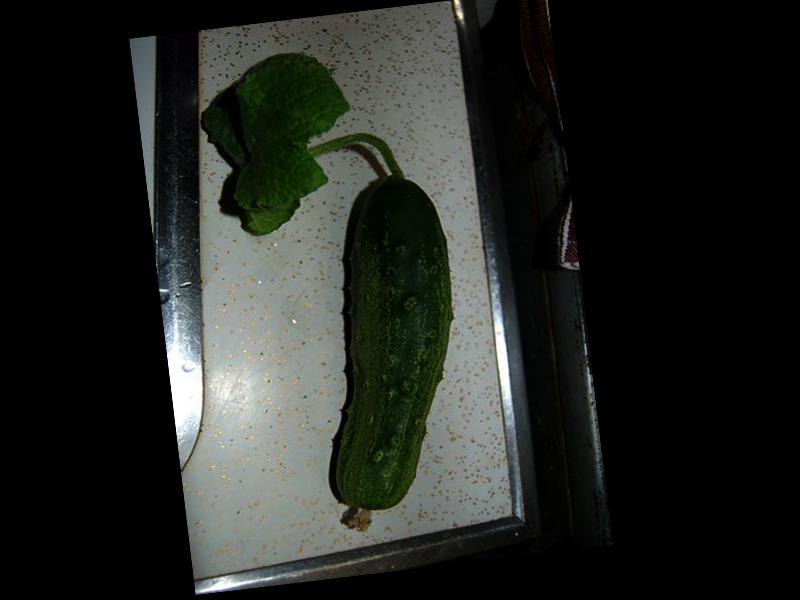Cucumber: (298, 168, 480, 534)
